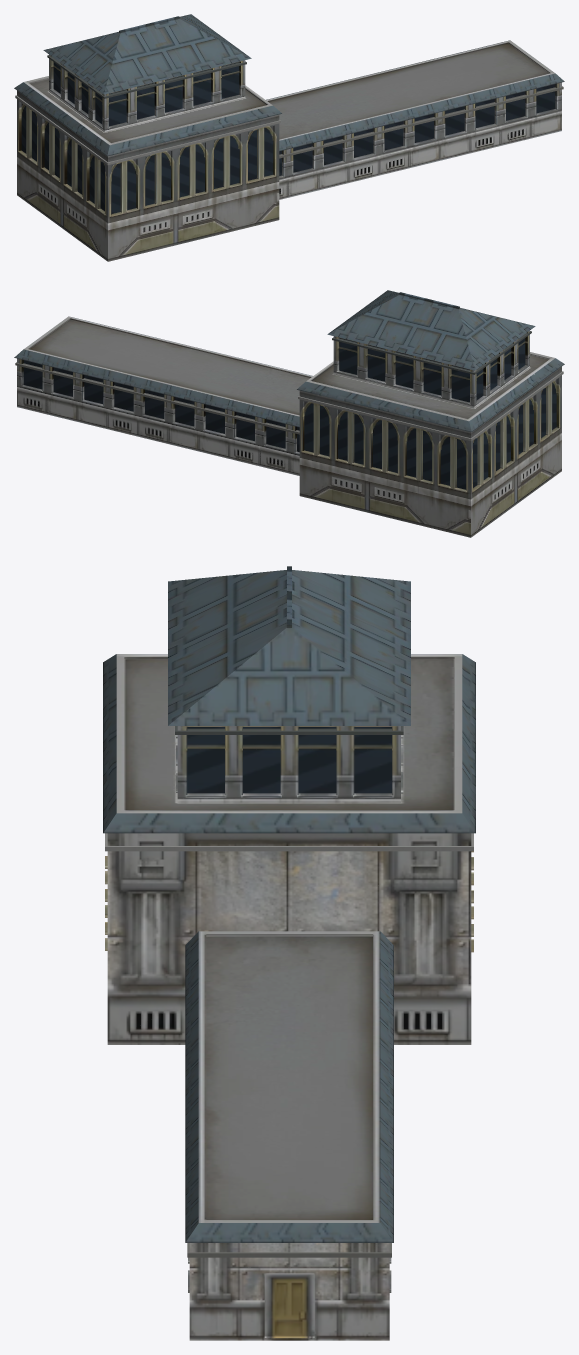
File: s_main_leftwing_cad.glb
3 views of the same model, one above another, from view 1: azimuth 30°, elevation 25°; view 2: azimuth 150°, elevation 25°; view 3: azimuth 270°, elevation 25° (orthographic). The views are drawn at different scales.
Parts seen in each view (by area): view 1: S_HC_LeftwingA; view 2: S_HC_LeftwingA; view 3: S_HC_LeftwingA.
Boxes of the visible parts, box(x1,y1,x2,y2) form: S_HC_LeftwingA: box(14, 14, 564, 261); S_HC_LeftwingA: box(14, 290, 564, 537); S_HC_LeftwingA: box(103, 566, 475, 1340).
Bounding box in the file's own units: 43.99 × 16.13 × 14.85.
Materials: 1 (1 with a texture image).
